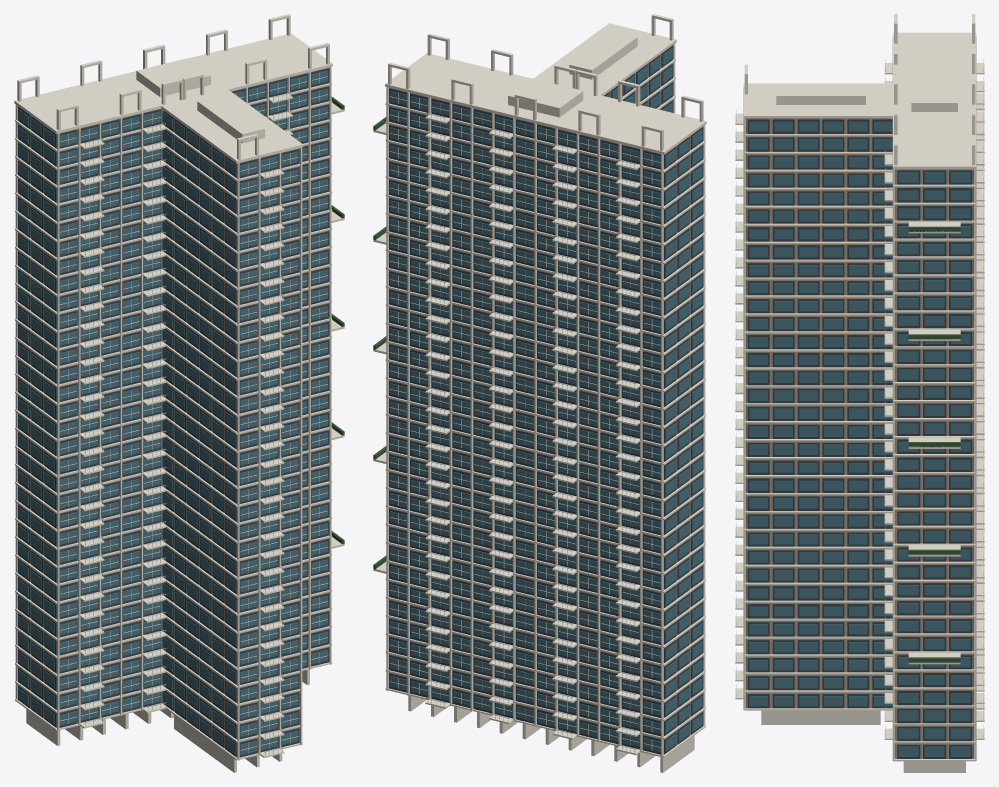
File: tower-f.glb
3 views of the same model, side by side, from view 1: azimuth 30°, elevation 25°; view 2: azimuth 150°, elevation 25°; view 3: azimuth 270°, elevation 25° (orthographic).
Visible parts, largest first — view 1: glass, ivory, dark, sand, rail; view 2: ivory, glass, dark, sand, rail; view 3: ivory, glass, dark, sand, leaf, rail.
Part boxes in pixels (x1,y1,x2,y2): glass: [18, 70, 327, 755]; ivory: [14, 14, 344, 772]; dark: [18, 68, 328, 757]; sand: [18, 67, 328, 757]; rail: [84, 92, 292, 755]; ivory: [373, 14, 706, 772]; glass: [390, 48, 702, 752]; dark: [389, 45, 702, 754]; sand: [389, 54, 702, 754]; rail: [426, 113, 636, 752]; ivory: [735, 14, 984, 772]; glass: [749, 121, 970, 756]; dark: [746, 118, 973, 758]; sand: [746, 118, 973, 758]; leaf: [908, 226, 960, 662]; rail: [736, 59, 983, 737].
Bounding box in the file's own units: 52.2 × 108 × 38.41.
